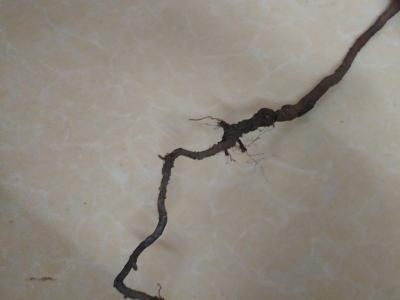Root: (113, 0, 400, 300)
